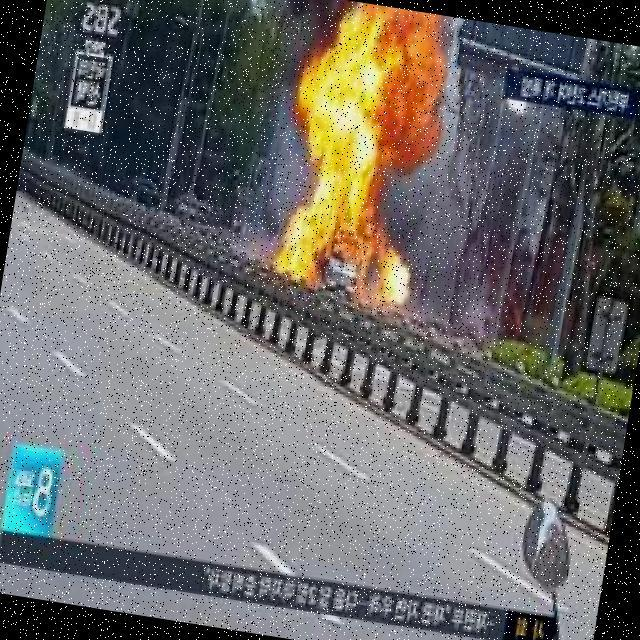Fire: (272, 207, 419, 307), (289, 55, 434, 156), (309, 151, 389, 222)
